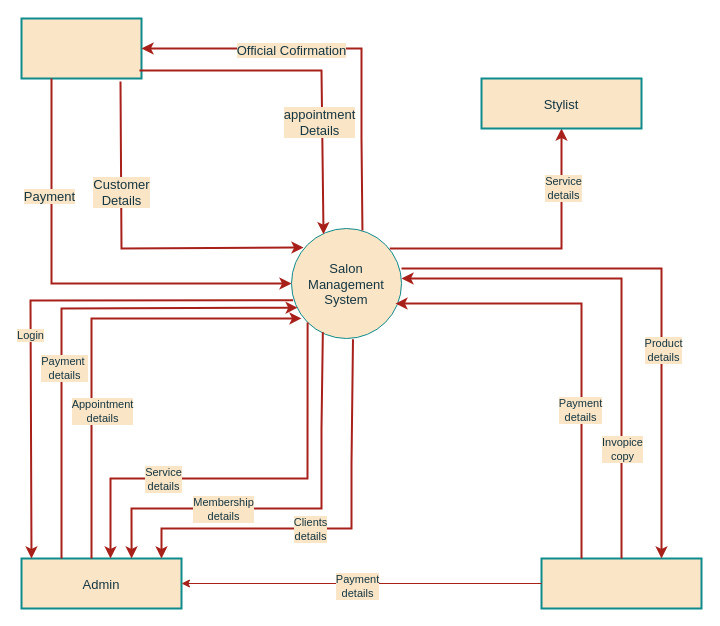
Some shapes in this 720 by 626 pixel diagram are drawn without their labels. The shapes that lost their labels are listed below. From the top down, each one's centre as x and y in pixels, then its label:
[81,48]: Customer
[621,583]: Manager
